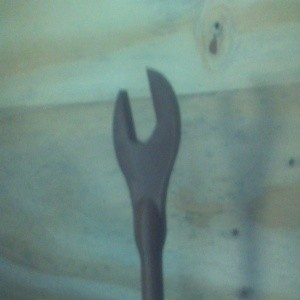spanner: (109, 64, 182, 300)
